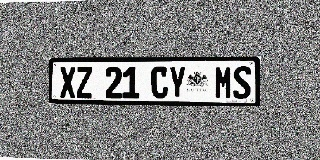1: (122, 66, 139, 98)
2: (105, 66, 122, 98)
C: (151, 66, 168, 99)
M: (215, 66, 233, 99)
S: (233, 66, 251, 99)
X: (59, 67, 76, 98)
Y: (169, 66, 186, 99)
Z: (76, 67, 92, 98)
